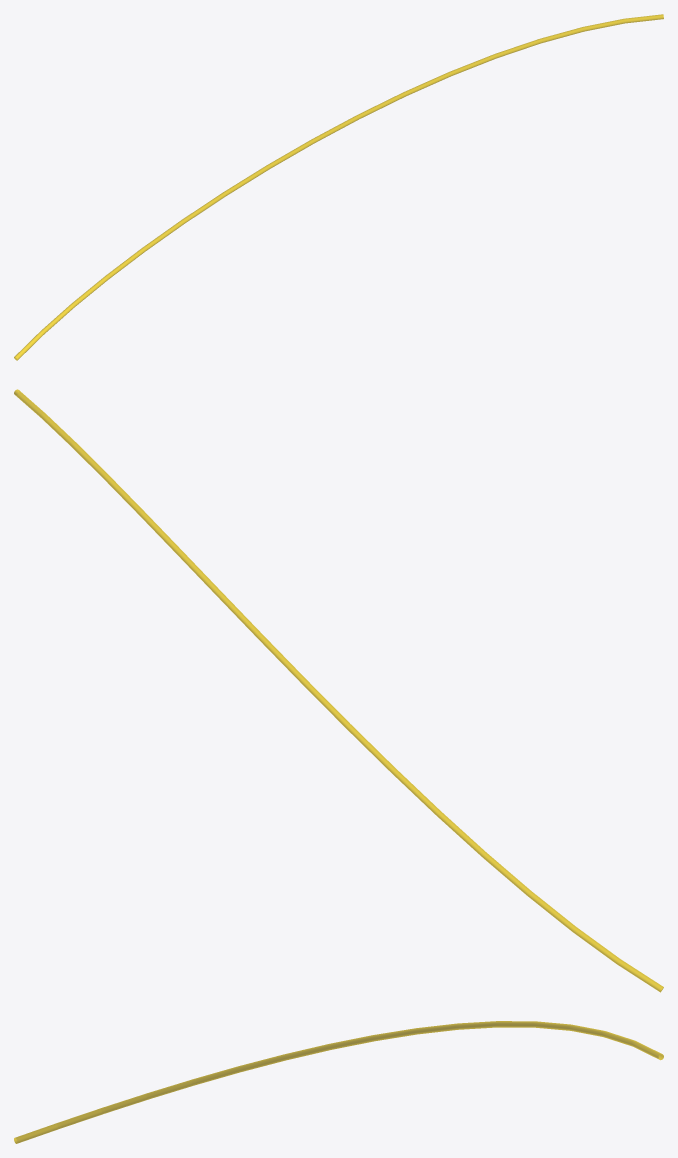
Rendered from Event_17758602_track_34.fbx.
3 renders of one model, top to bottom at view 1: azimuth 30°, elevation 25°; view 2: azimuth 150°, elevation 25°; view 3: azimuth 330°, elevation 25°, orthographic. The views are drawn at different scales.
Visible parts, largest first — view 1: Model; view 2: Model; view 3: Model.
Part boxes in pixels (left/top/right/bottom): Model: left=14, top=14, right=663, bottom=360; Model: left=14, top=389, right=663, bottom=992; Model: left=14, top=1021, right=663, bottom=1143.
Bounding box in the file's own units: 5.37 × 2.37 × 1.38.
